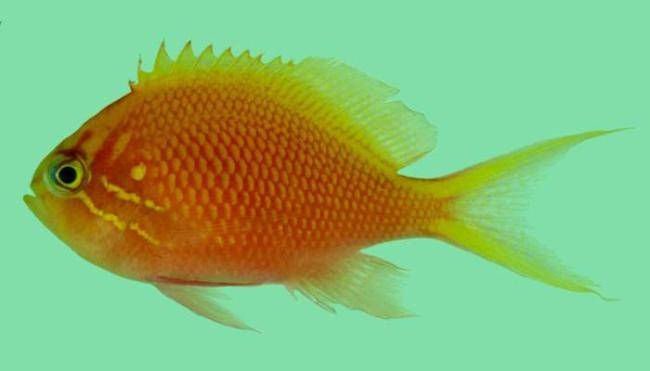fish: (23, 39, 637, 335)
